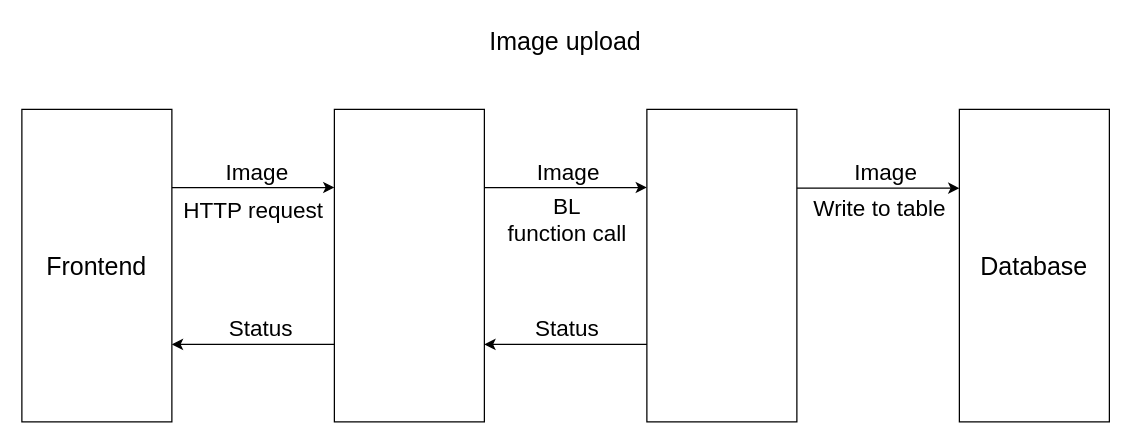
Some shapes in this 1131 by 444 pixel diagram are drawn without their labels. Each missing label, with the centre of its shape:
"API - Basic image validation (check type and size)" goes at (x=408, y=265).
"Business Logics - Session check (u ser privileges) - Storage logics" goes at (x=721, y=265).
